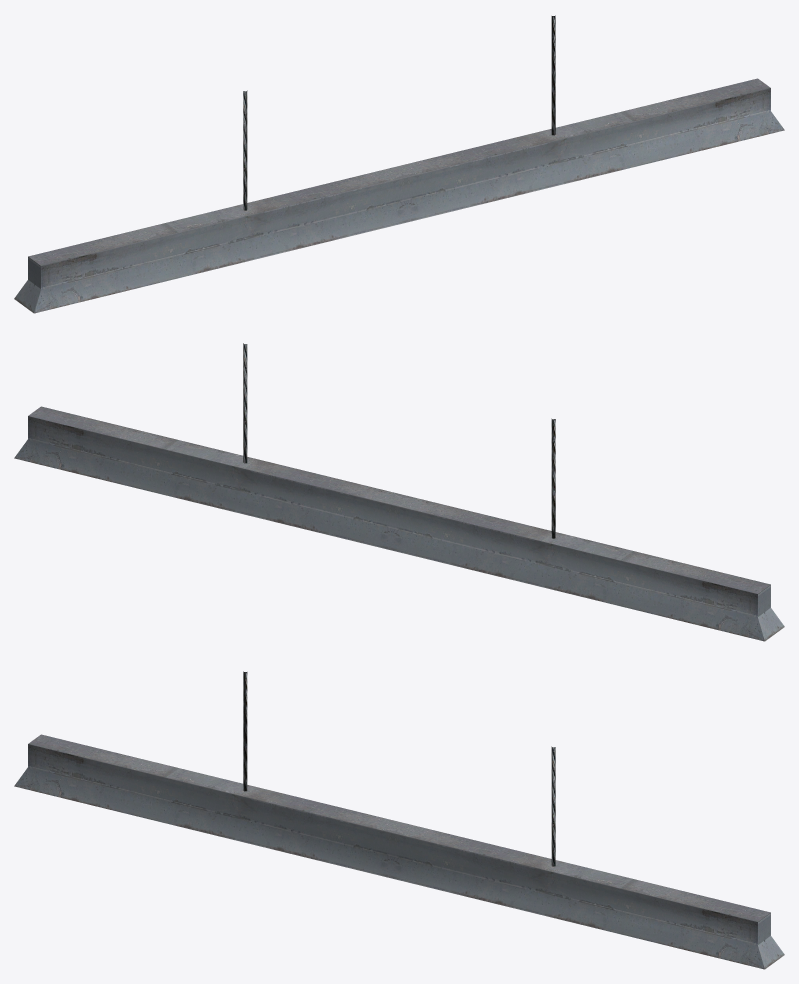
File: Prop_Jjd01.glb
The picture shows the model from 3 angles, top to bottom: view 1: azimuth 30°, elevation 25°; view 2: azimuth 150°, elevation 25°; view 3: azimuth 330°, elevation 25°; orthographic projection.
Visible parts, largest first — view 1: xiutz_jjd_01; view 2: xiutz_jjd_01; view 3: xiutz_jjd_01.
Boxes of the visible parts, box(x1,y1,x2,y2) form: xiutz_jjd_01: box(14, 15, 784, 313); xiutz_jjd_01: box(14, 343, 784, 641); xiutz_jjd_01: box(14, 671, 784, 969).
Bounding box in the file's own units: 3.9 × 0.8023 × 0.1804.
1 material, 1 textured.
